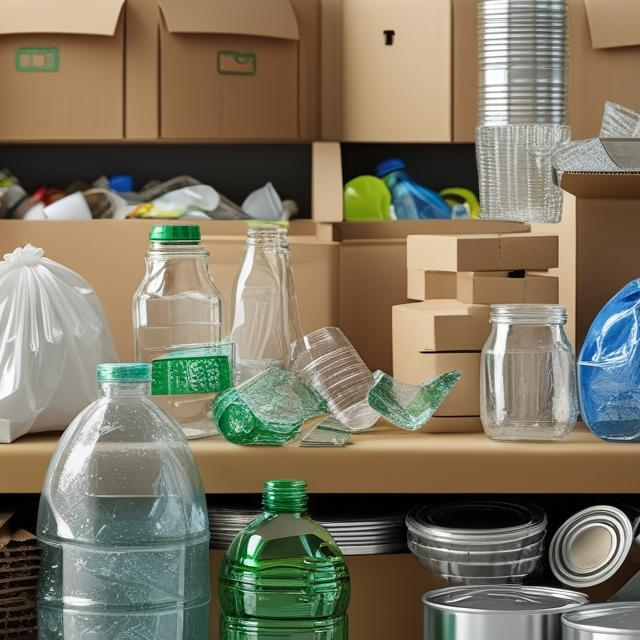plastic: (30, 358, 217, 640)
